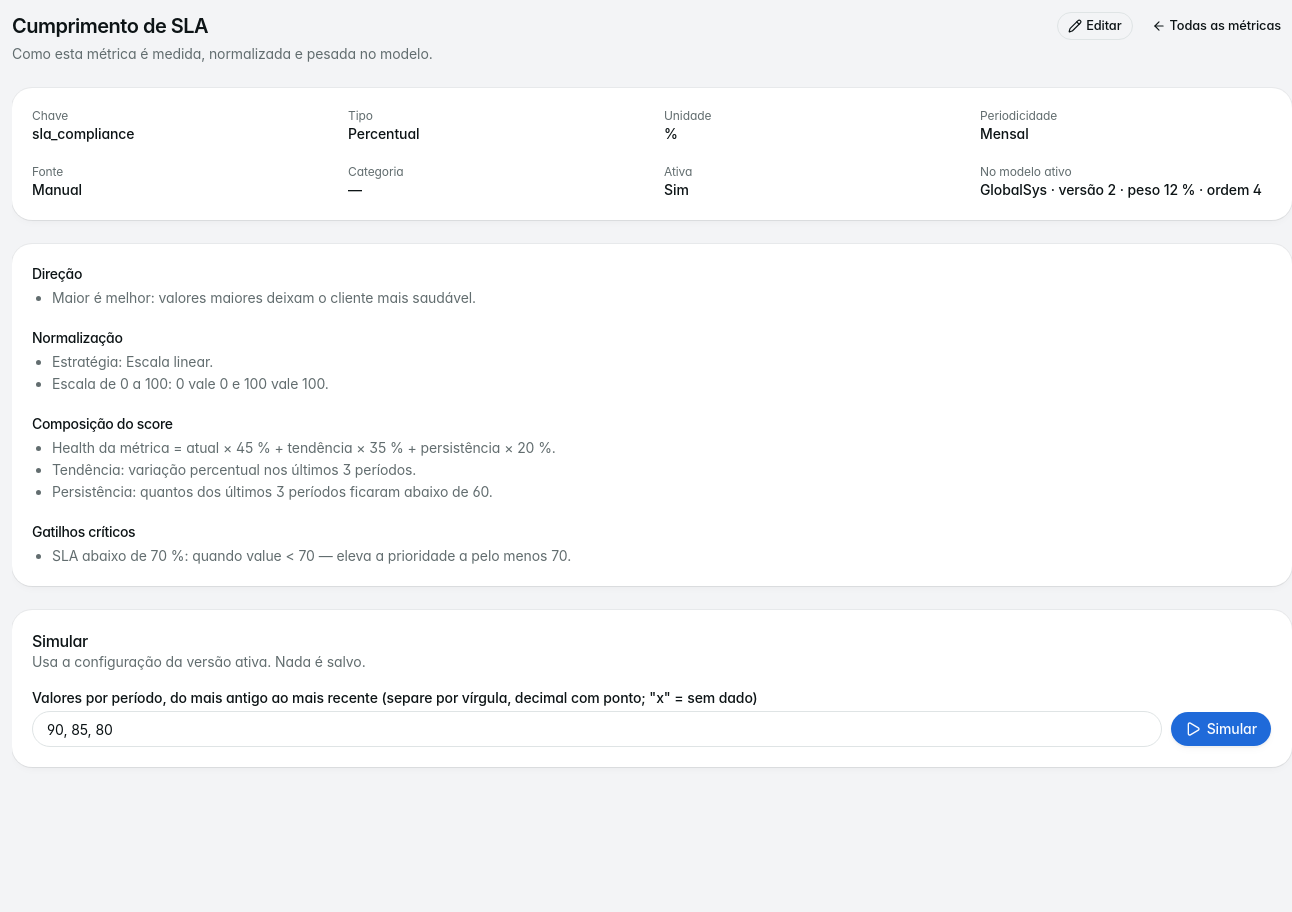
Test: MetricDetailPage (/metrics/:id) › mostra o erro do motor quando a simulação falha
Expected: the heading "Simular" is shown, [32,631,88,651]
Click the button "Simular" at (1221, 729), box [1170,711,1272,747]
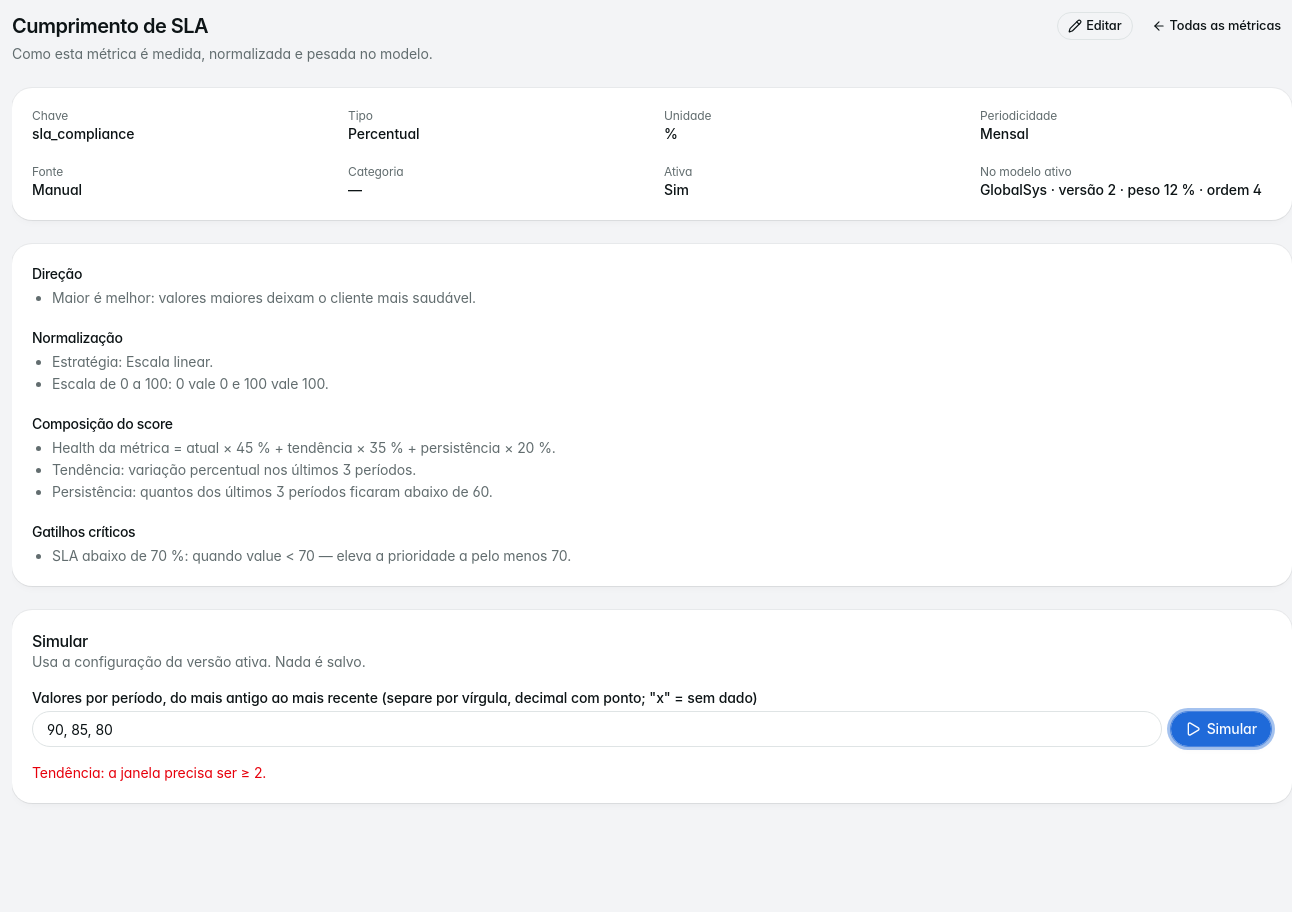
Result: the message reads "Tendência: a janela precisa ser ≥ 2." at [32,764,266,781]
